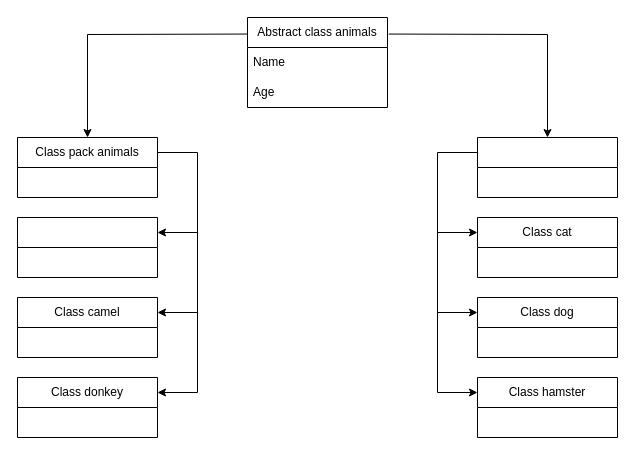
Image size: 635x455. Some labels were removed from this diagram. Here are the shapes that lost their labels. From the top down, the centre of each, then its label:
At point 547,167: "Class home animals".
At point 87,247: "Class horse".
